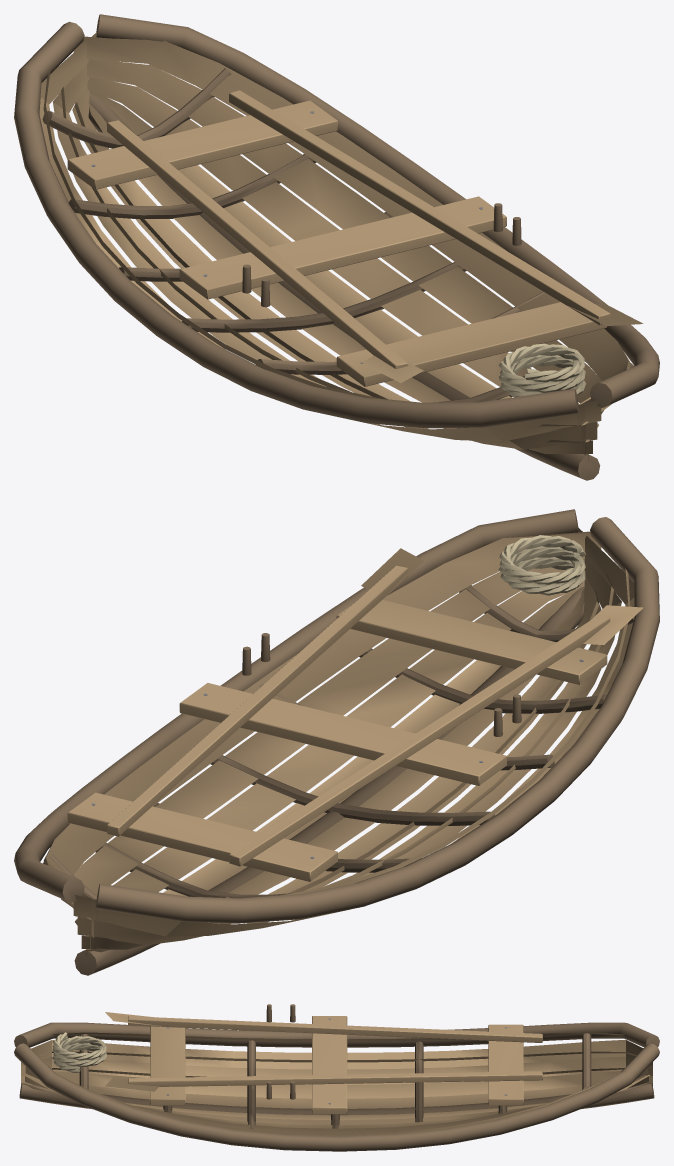
Rendered from boat_row.glb.
3 views of the same model, one above another, from view 1: azimuth 30°, elevation 25°; view 2: azimuth 150°, elevation 25°; view 3: azimuth 270°, elevation 25° (orthographic). The views are drawn at different scales.
Visible parts, largest first — view 1: boat_row; view 2: boat_row; view 3: boat_row.
Boxes of the visible parts, x1=… form: boat_row: x1=14, y1=14, x2=659, y2=480; boat_row: x1=14, y1=509, x2=659, y2=975; boat_row: x1=14, y1=1004, x2=659, y2=1151.
Size of the model in its own units: 1.79 by 0.6342 by 4.39.
